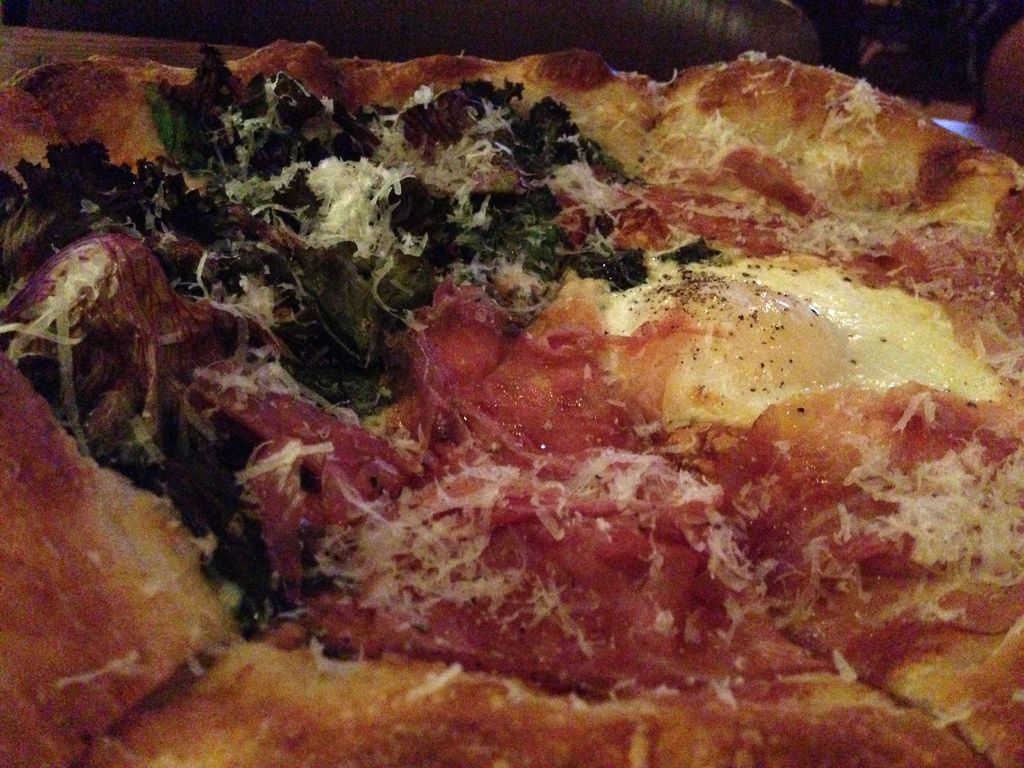Pizza: (0, 31, 1023, 767)
